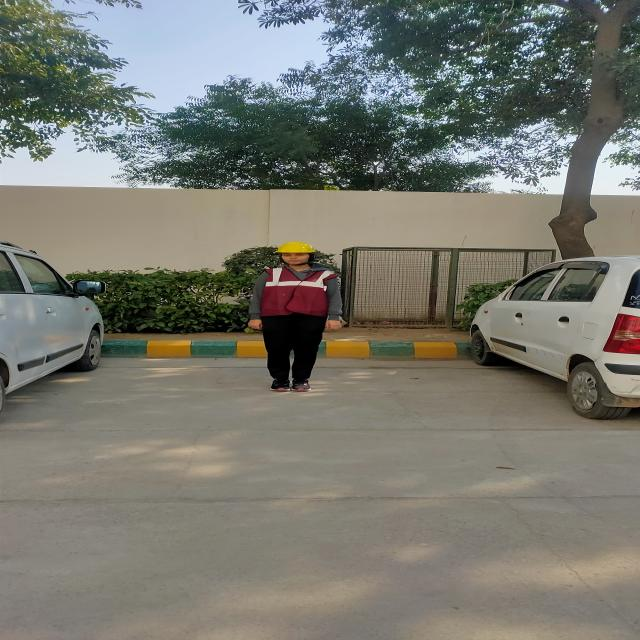safe: (252, 242, 340, 391)
